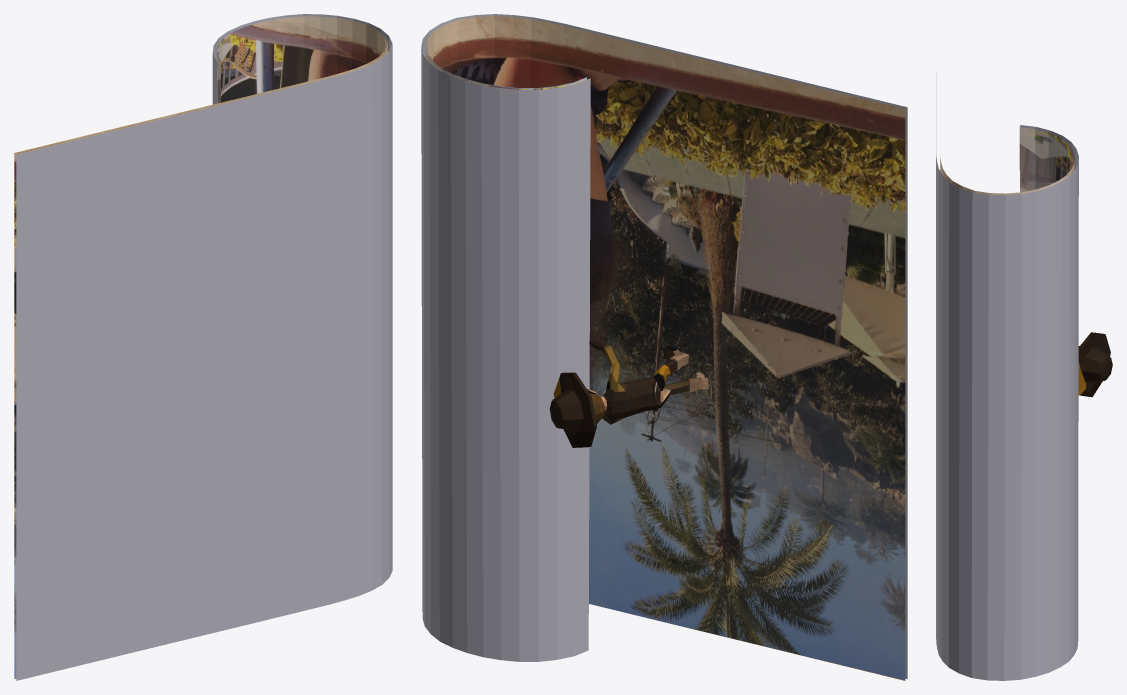
File: start_file2_000053.obj
3 views of the same model, side by side, from view 1: azimuth 30°, elevation 25°; view 2: azimuth 150°, elevation 25°; view 3: azimuth 270°, elevation 25° (orthographic). The views are drawn at different scales.
Parts seen in each view (by area): view 1: Cube_Cube.001; view 2: Cube_Cube.001, Character_Cube; view 3: Cube_Cube.001, Character_Cube.
Part boxes in pixels (box(x1,y1,x2,y2)): Cube_Cube.001: box(14, 14, 392, 680); Cube_Cube.001: box(421, 14, 907, 680); Character_Cube: box(549, 338, 708, 447); Cube_Cube.001: box(936, 73, 1078, 680); Character_Cube: box(1078, 332, 1112, 397).
Bounding box in the file's own units: 1.22 × 1.52 × 0.5025.
Materials: 2 (2 with a texture image).
